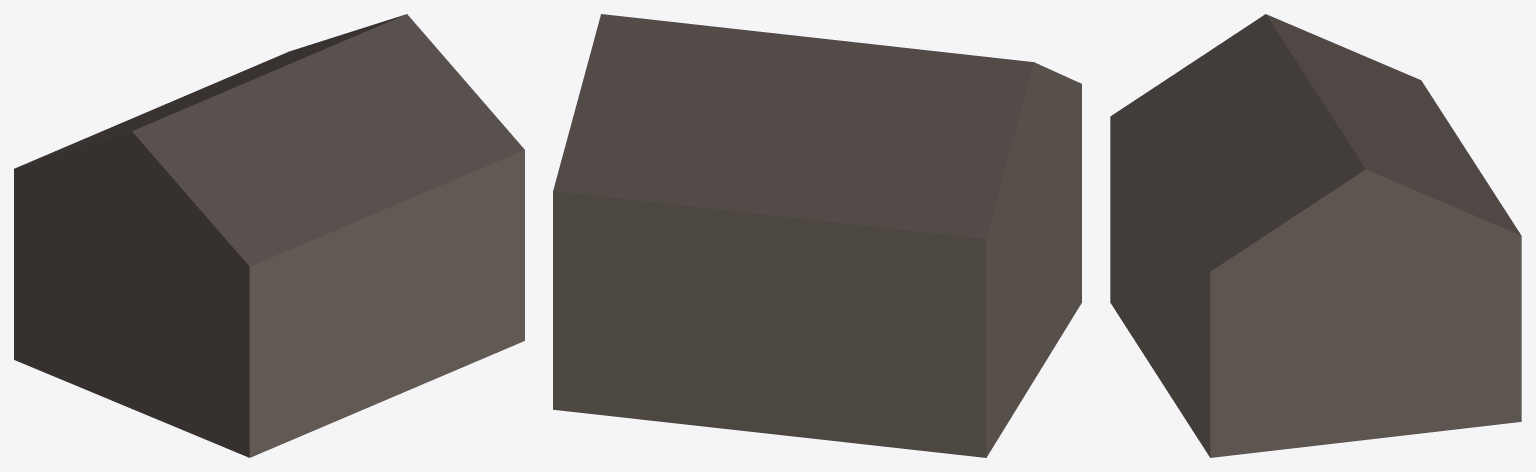
3 renders of one model, left to right at view 1: azimuth 30°, elevation 25°; view 2: azimuth 150°, elevation 25°; view 3: azimuth 270°, elevation 25°, orthographic. The views are drawn at different scales.
Visible parts, largest first — view 1: HP-w859424270; view 2: HP-w859424270; view 3: HP-w859424270.
Boxes of the visible parts, left/top/right/bottom form: HP-w859424270: left=14, top=14, right=524, bottom=457; HP-w859424270: left=553, top=14, right=1081, bottom=457; HP-w859424270: left=1110, top=14, right=1521, bottom=457.
Size of the model in its own units: 13.24 by 8.72 by 12.01.
